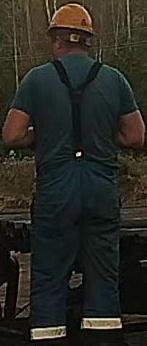helmet: (45, 3, 98, 36)
